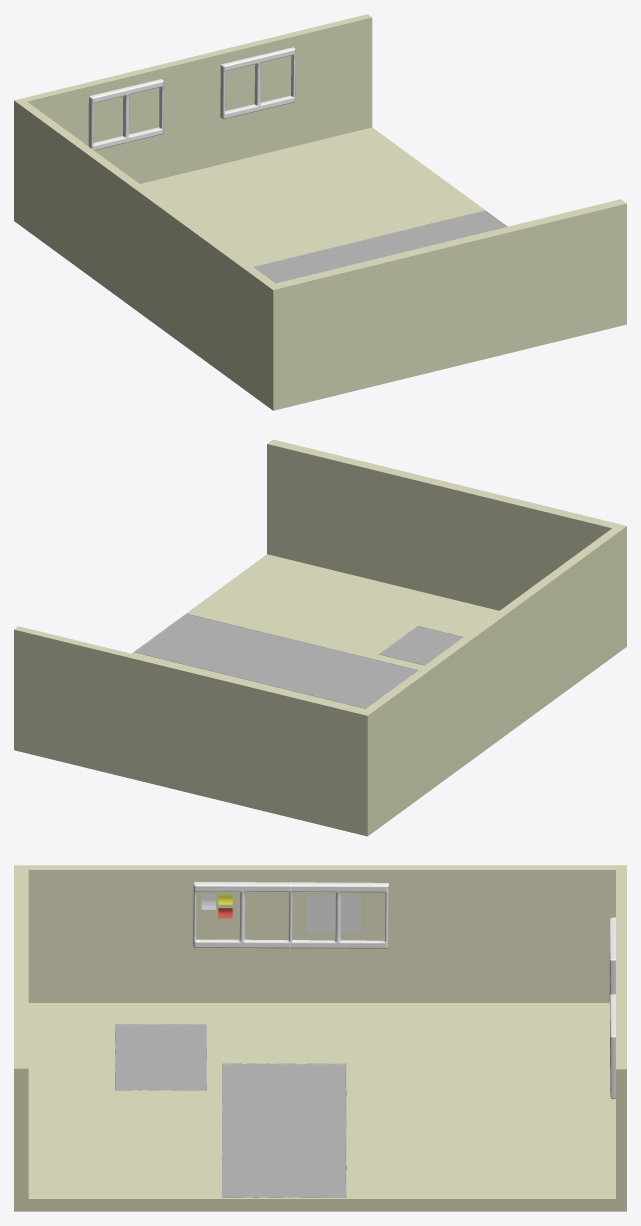
The model's file is wall_floor.glb.
3 views of the same model, one above another, from view 1: azimuth 30°, elevation 25°; view 2: azimuth 150°, elevation 25°; view 3: azimuth 270°, elevation 25° (orthographic). The views are drawn at different scales.
Visible parts, largest first — view 1: Cube.031, Plane008.001, Box023.001, Box025.002; view 2: Cube.031, Plane008.001, Plane008; view 3: Cube.031, Plane008.001, Plane008, Box025.001, Box023.002, paper_piece_page3, Box025.002, Box023.001.
Part boxes in pixels (x1,y1,x2,y2): Cube.031: (14,14,626,410); Plane008.001: (253,210,507,283); Box023.001: (88,79,163,150); Box025.002: (220,47,295,119); Cube.031: (14,439,626,836); Plane008.001: (134,613,418,708); Plane008: (379,626,463,665); Cube.031: (14,865,626,1211); Plane008.001: (222,1063,346,1197); Plane008: (115,1024,206,1090); Box025.001: (288,882,388,948); Box023.002: (192,881,293,948); paper_piece_page3: (306,895,361,933); Box025.002: (610,994,615,1098); Box023.001: (609,917,615,1005).
Size of the model in its own units: 464 by 152 by 589.
